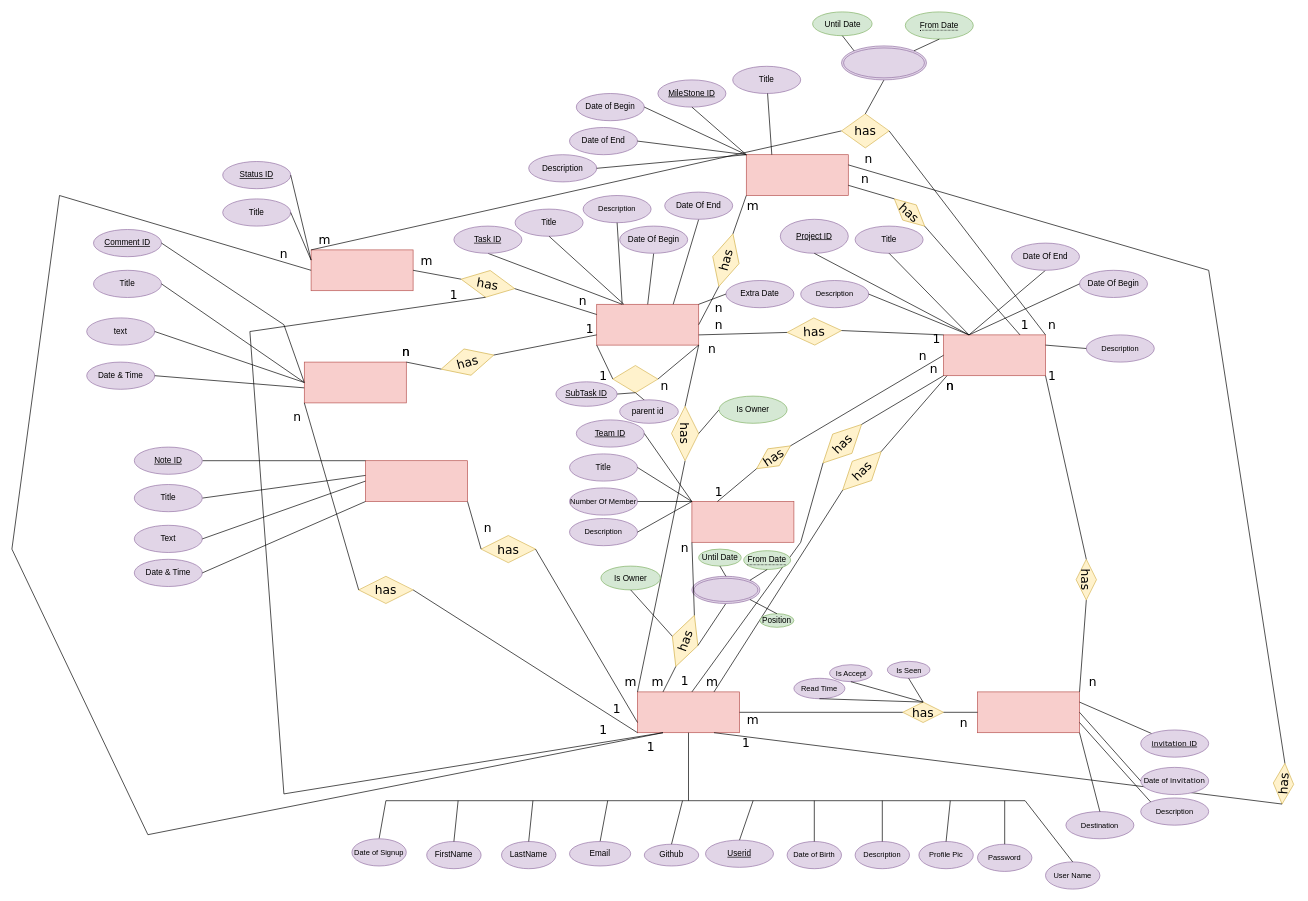
Image size: 1308x901. Some labels were removed from this diagram. Here are the shapes that lost their labels. From the top down, the centre of each, then its label:
At (x=884, y=62): "StatusChangeHistory".
At (x=797, y=175): "MileStone".
At (x=361, y=270): "Status".
At (x=647, y=324): "Task".
At (x=994, y=355): "Project".
At (x=355, y=382): "Comment".
At (x=635, y=379): "subtask".
At (x=416, y=481): "Note".
At (x=742, y=521): "Company".
At (x=725, y=590): "PositionChangeHistory".
At (x=688, y=712): "User".
At (x=1028, y=712): "invitation".
